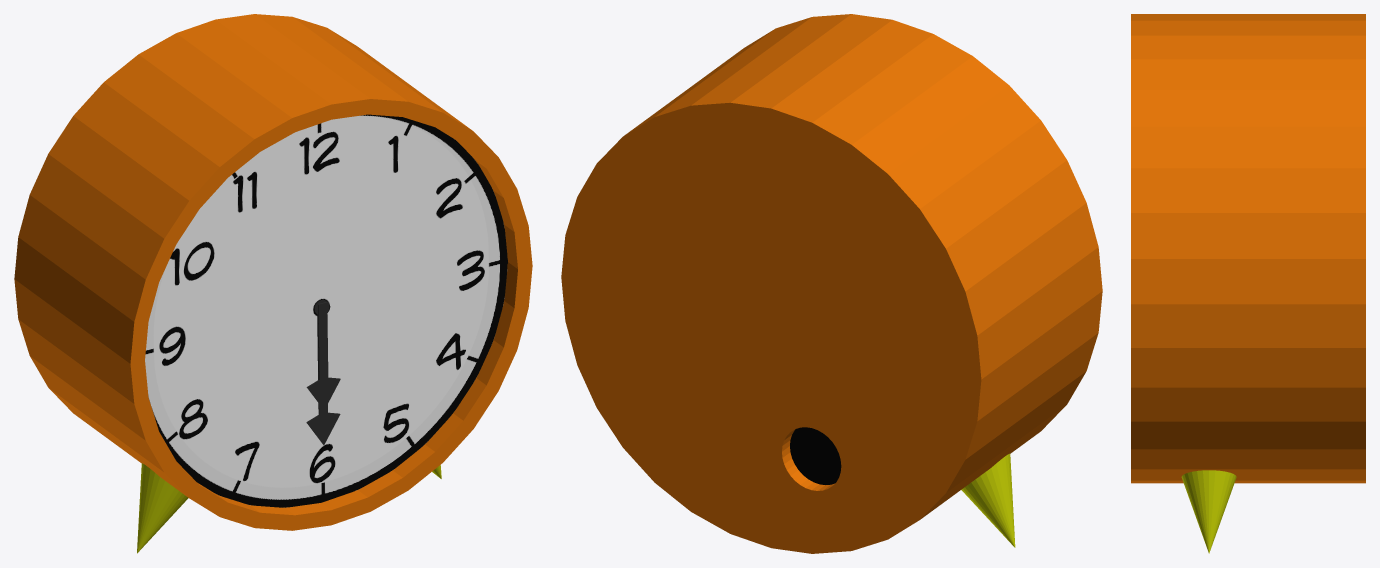
File: chasu.fbx
3 renders of one model, left to right at view 1: azimuth 30°, elevation 25°; view 2: azimuth 150°, elevation 25°; view 3: azimuth 270°, elevation 25°, orthographic. The views are drawn at different scales.
Visible parts, largest first — view 1: watch, chas, min; view 2: watch; view 3: watch.
Part boxes in pixels (x1=…): watch: x1=14, y1=14, x2=532, y2=553; chas: x1=306, y1=300, x2=340, y2=410; min: x1=306, y1=299, x2=340, y2=444; watch: x1=561, y1=14, x2=1102, y2=553; watch: x1=1131, y1=14, x2=1365, y2=553.
Size of the model in its own units: 200 by 209 by 100.
8 materials, 1 textured.
